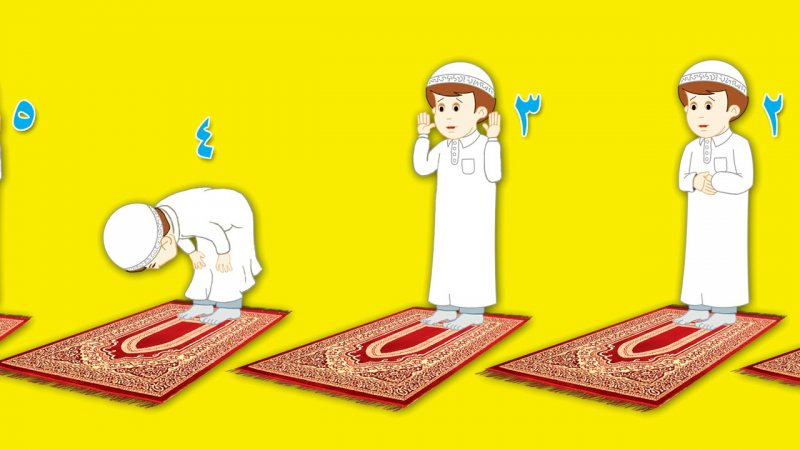ruku: (87, 166, 281, 359)
